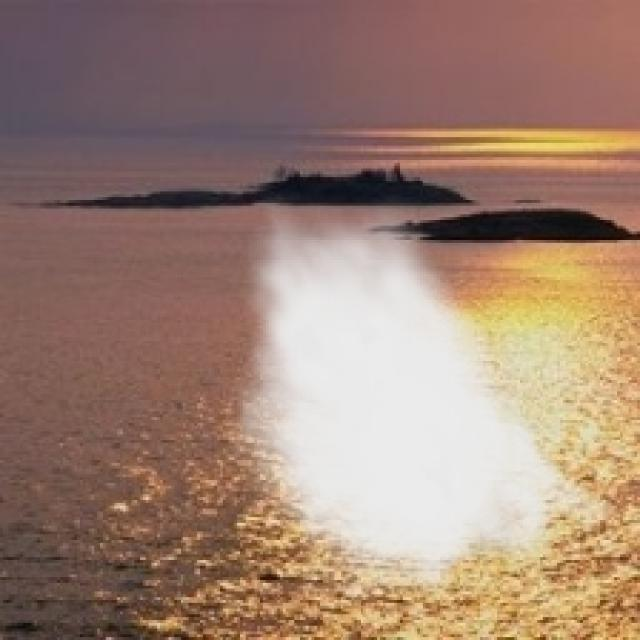Smoke: (226, 192, 628, 608)
